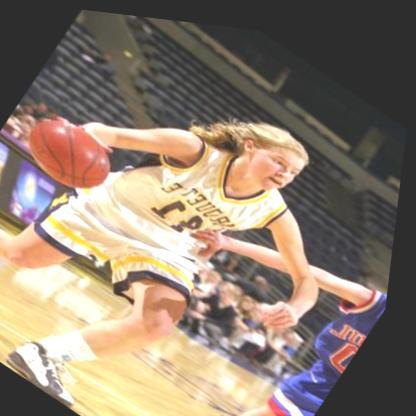basketball: (16, 101, 128, 205)
